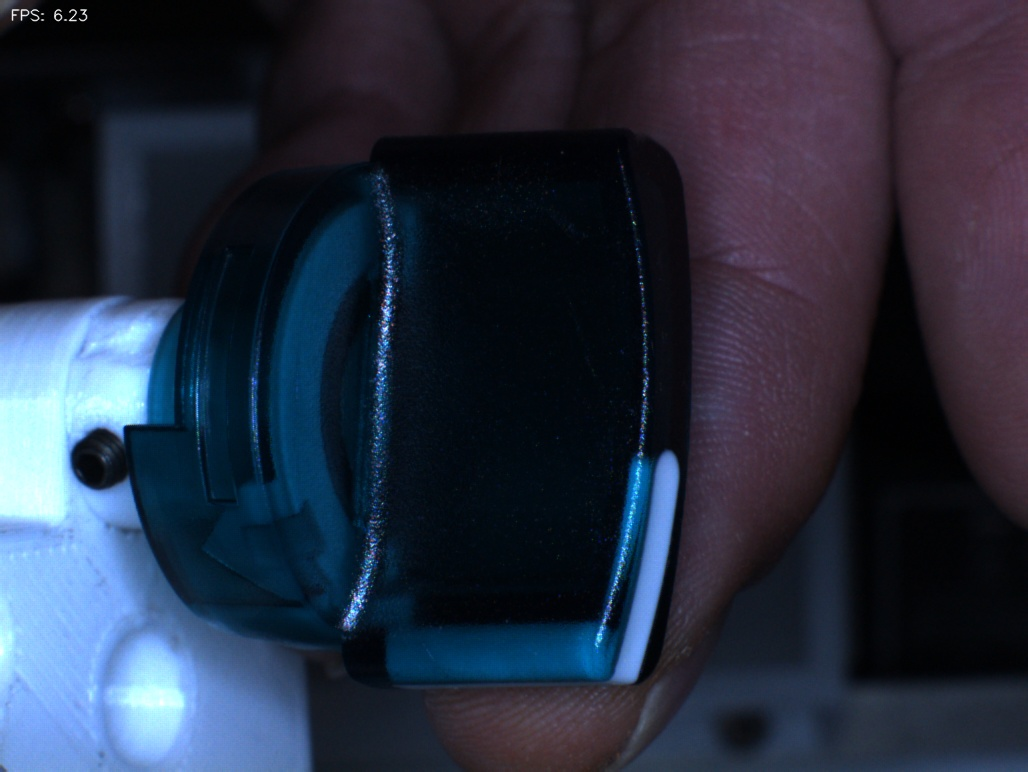Givrage: (554, 290, 631, 436)
